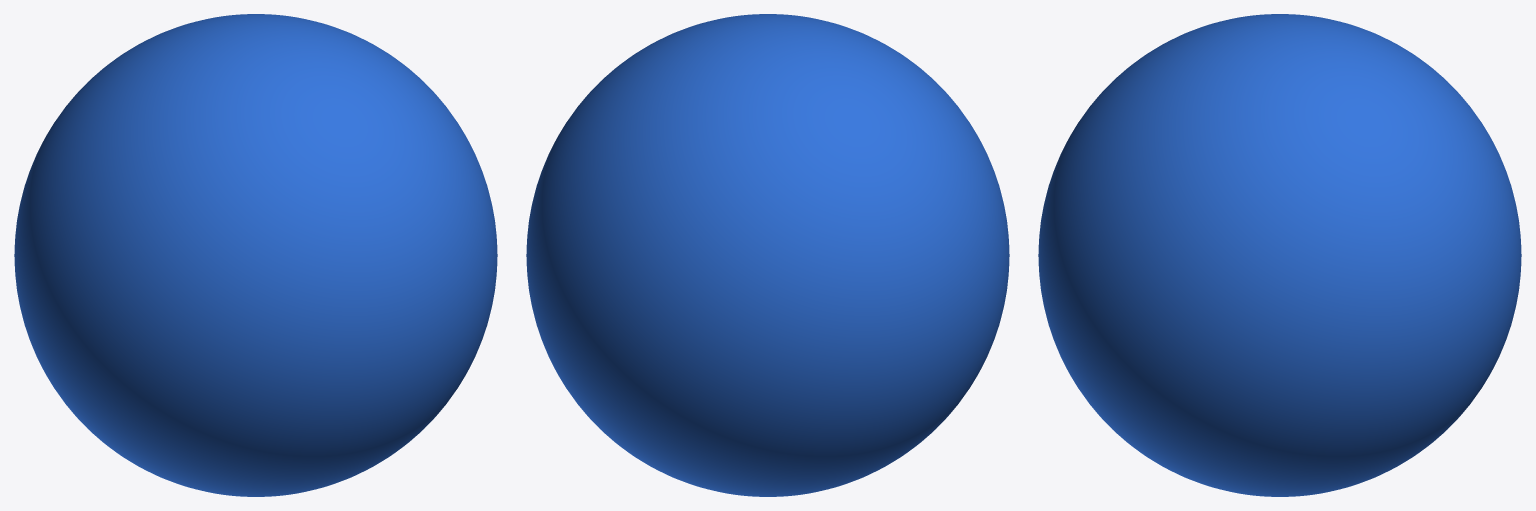
Rendered from sphere_blue.obj.
The picture shows the model from 3 angles, left to right: view 1: azimuth 30°, elevation 25°; view 2: azimuth 150°, elevation 25°; view 3: azimuth 270°, elevation 25°; orthographic projection.
Bounding box in the file's own units: 2 × 2 × 2.
